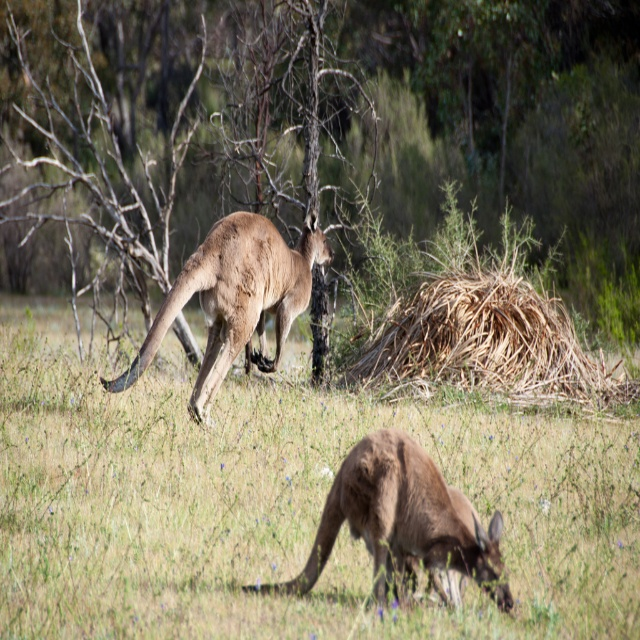Kangaroo: (100, 206, 334, 424), (243, 428, 514, 614)
